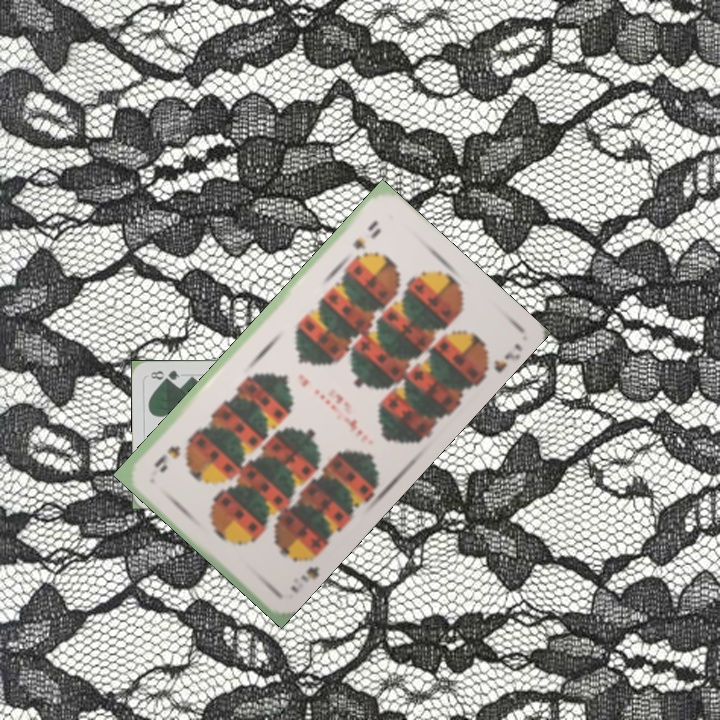S9: (286, 545, 322, 596), (348, 215, 382, 253)
